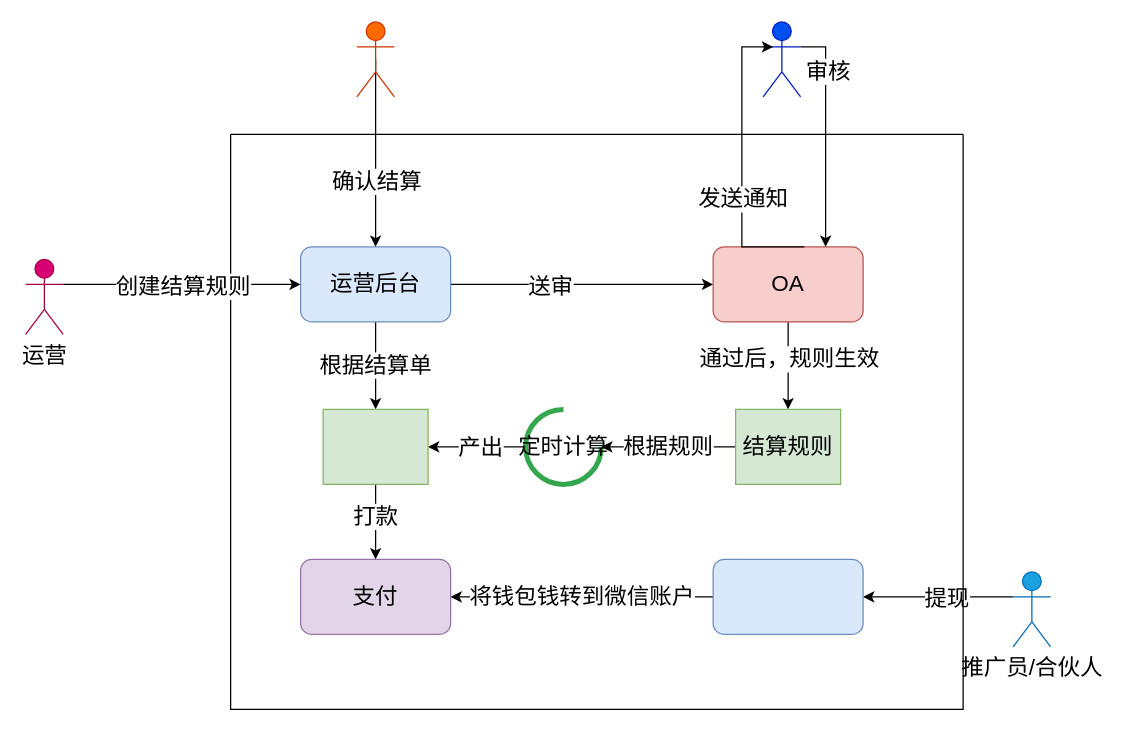
The diagram is 1124 pixels wide and 731 high, and some of its shapes have lost their labels. The centre of each missing label's shape, as x and y in pixels:
审核人员: (781,59)
小程序: (787,596)
结算单: (375,446)
财务: (375,59)
